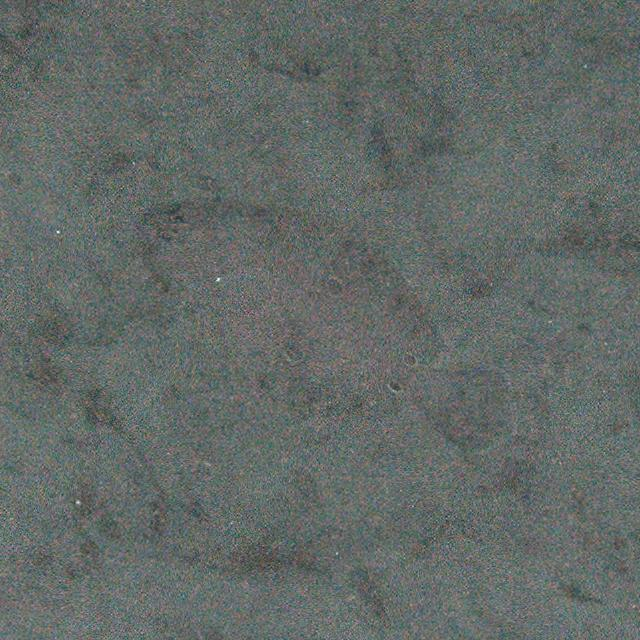flatfish: (143, 188, 524, 462)
